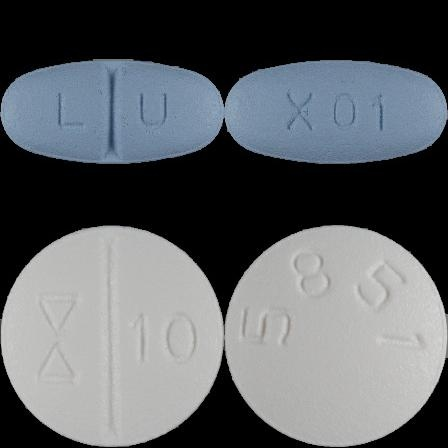63629-4675: (0, 0, 224, 224)
